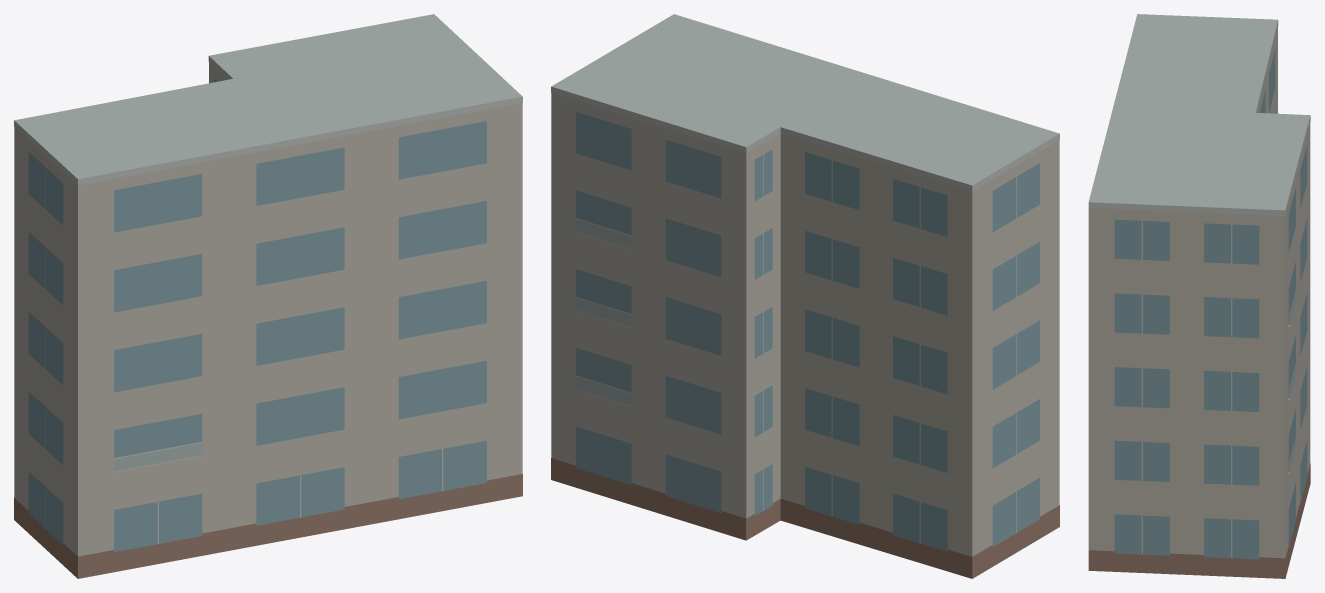
Rendered from survey-upis-32596985.glb.
3 renders of one model, left to right at view 1: azimuth 30°, elevation 25°; view 2: azimuth 150°, elevation 25°; view 3: azimuth 270°, elevation 25°, orthographic. The views are drawn at different scales.
Visible parts, largest first — view 1: survey-upis-32596985.tmp; view 2: survey-upis-32596985.tmp; view 3: survey-upis-32596985.tmp.
Boxes of the visible parts, x1,y1,x2,y2 form: survey-upis-32596985.tmp: (14,14,522,578); survey-upis-32596985.tmp: (551,14,1059,578); survey-upis-32596985.tmp: (1088,14,1310,578).
Bounding box in the file's own units: 17.96 × 15.7 × 8.58.
